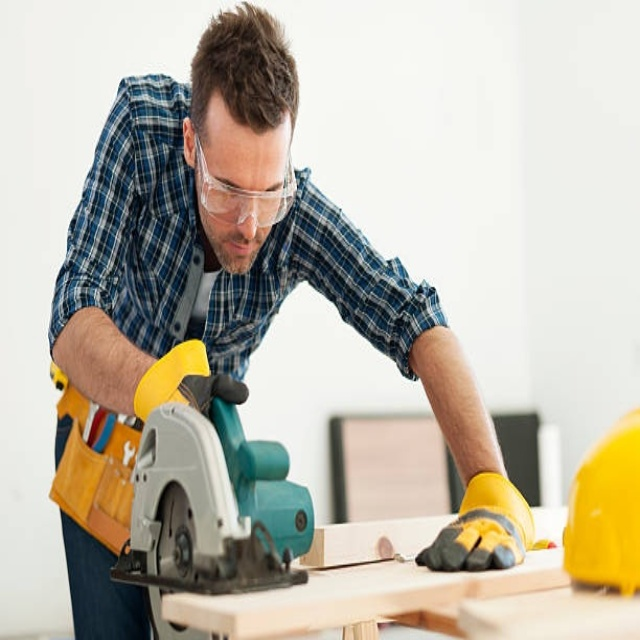Gafas: (193, 124, 297, 230)
Guantes: (417, 472, 535, 572), (132, 339, 211, 424)
Sin_mascara: (220, 232, 260, 271)
